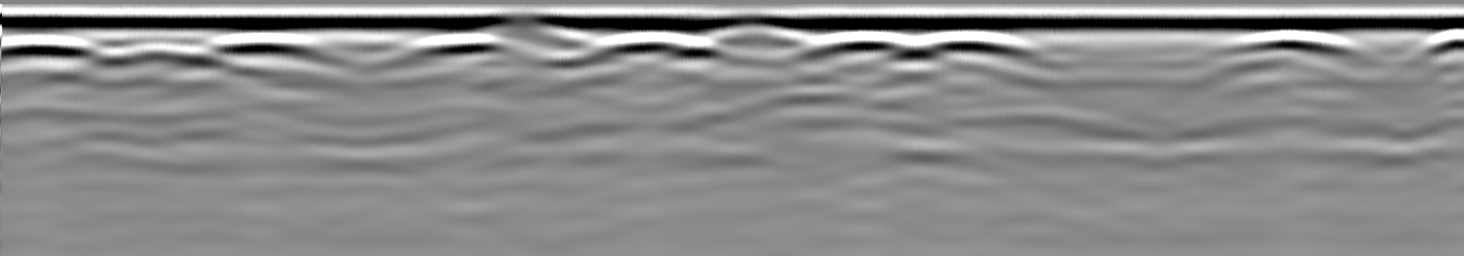pipe: (463, 15, 599, 46), (699, 16, 810, 51)
steel: (195, 32, 341, 65), (585, 31, 722, 65), (1225, 29, 1364, 62), (907, 31, 1035, 61), (805, 31, 926, 61), (1, 31, 98, 63), (406, 34, 507, 61)
